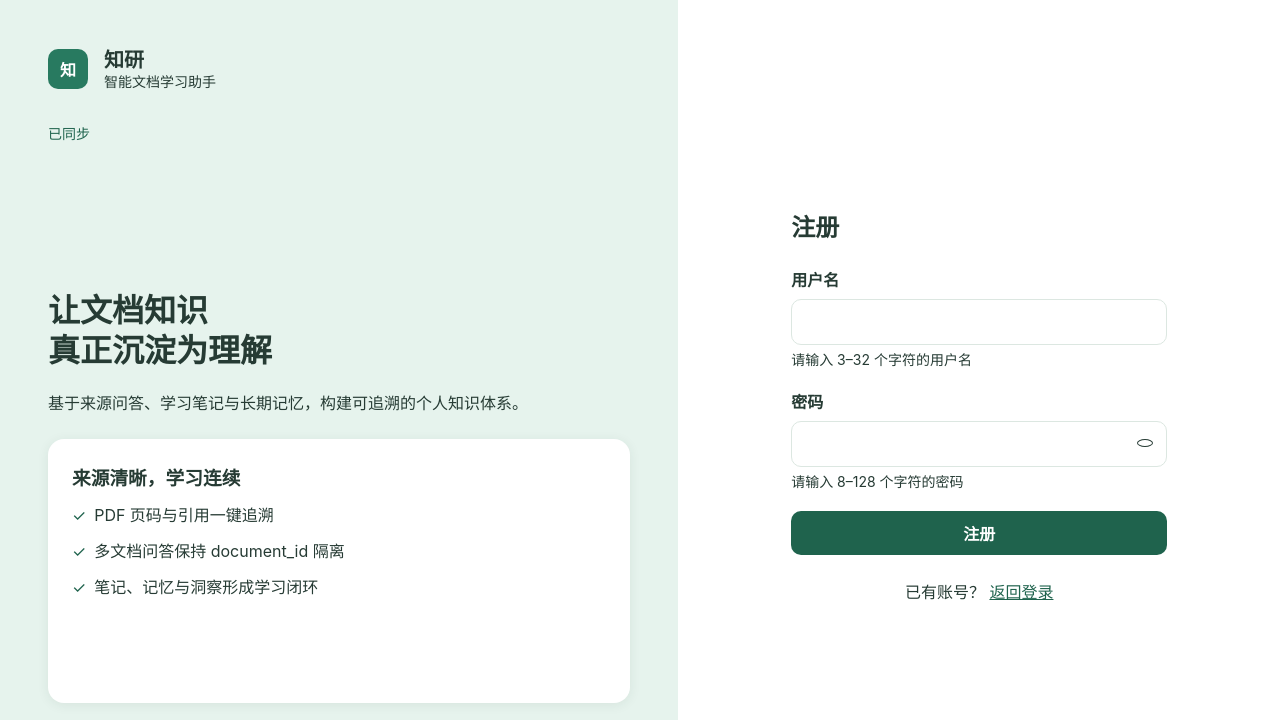
AuthProvider › preserves the intended target through the registration-to-login link
Click the link "返回登录" at (1021, 592), box [989,582,1053,602]
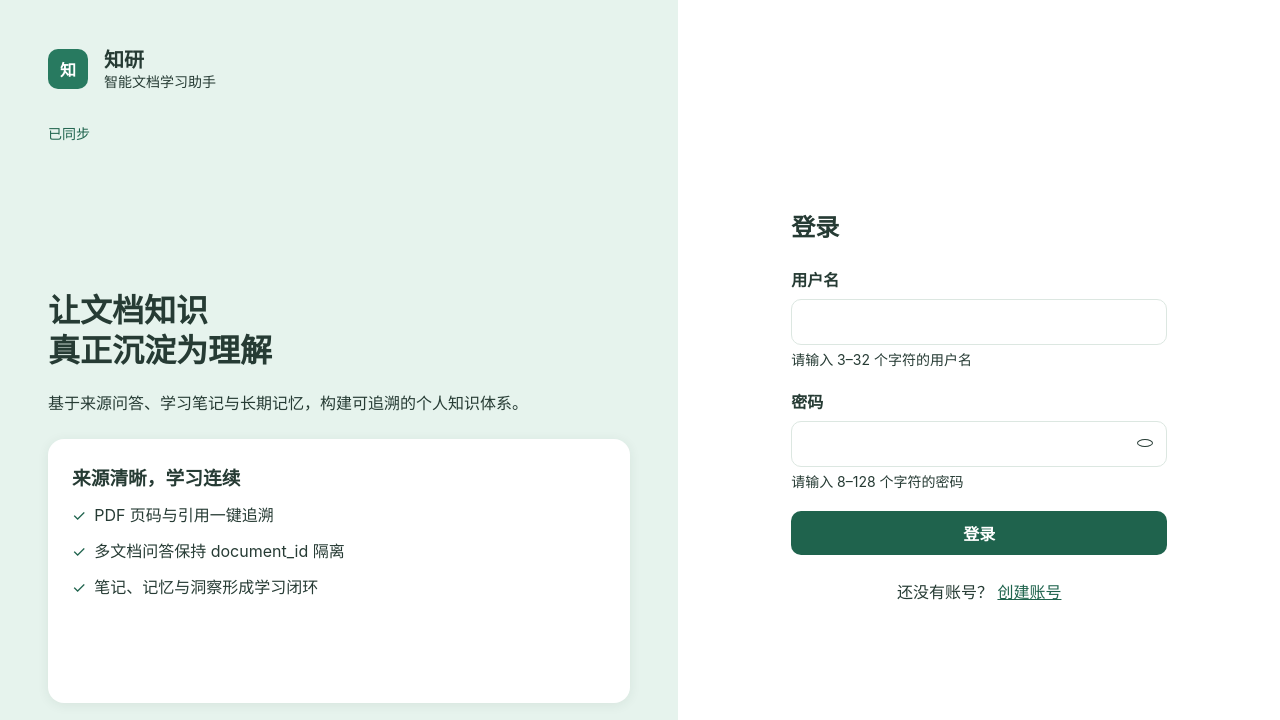
Check: the heading "登录" is shown, box [791,213,839,242]
